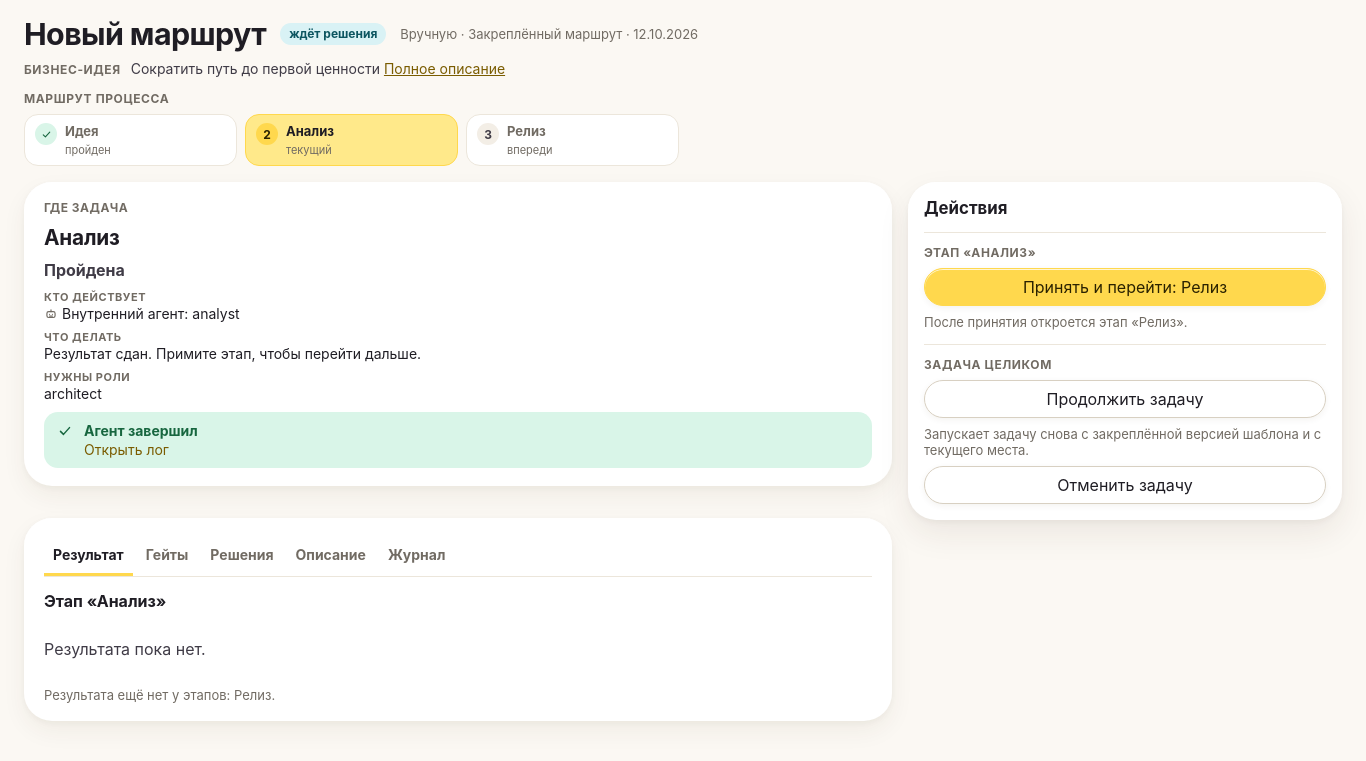
Test case: Task detail › shows the checker report and log link while exposing only confirm when that is allowed
Expected: the button "Принять и перейти: Релиз" is shown, [924,268,1326,306]
Click the tab "Журнал". click: coordinates (417, 556)
box: [379,536,454,576]
(page scrolled)
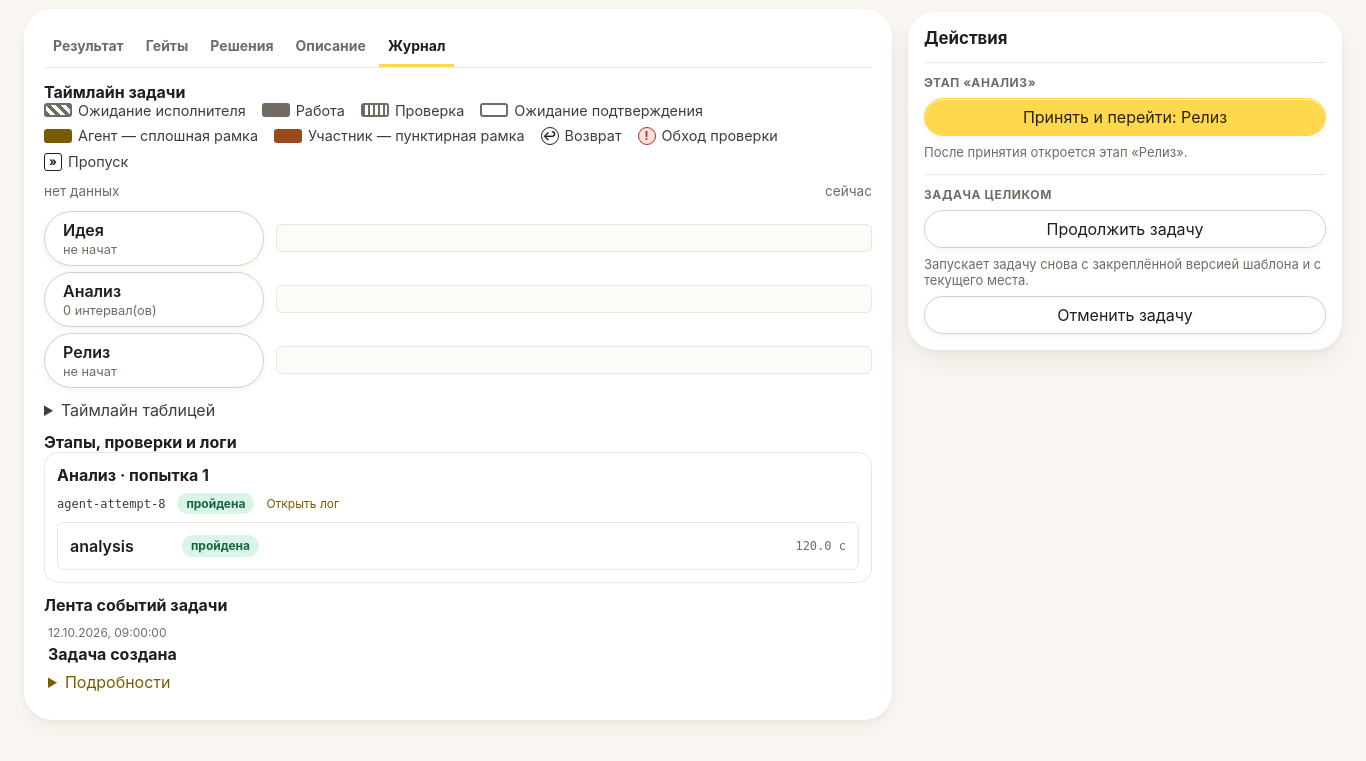
Click the button with aria-label "Этап analysis: показать детали". click: coordinates (102, 546)
box: [57,522,859,570]
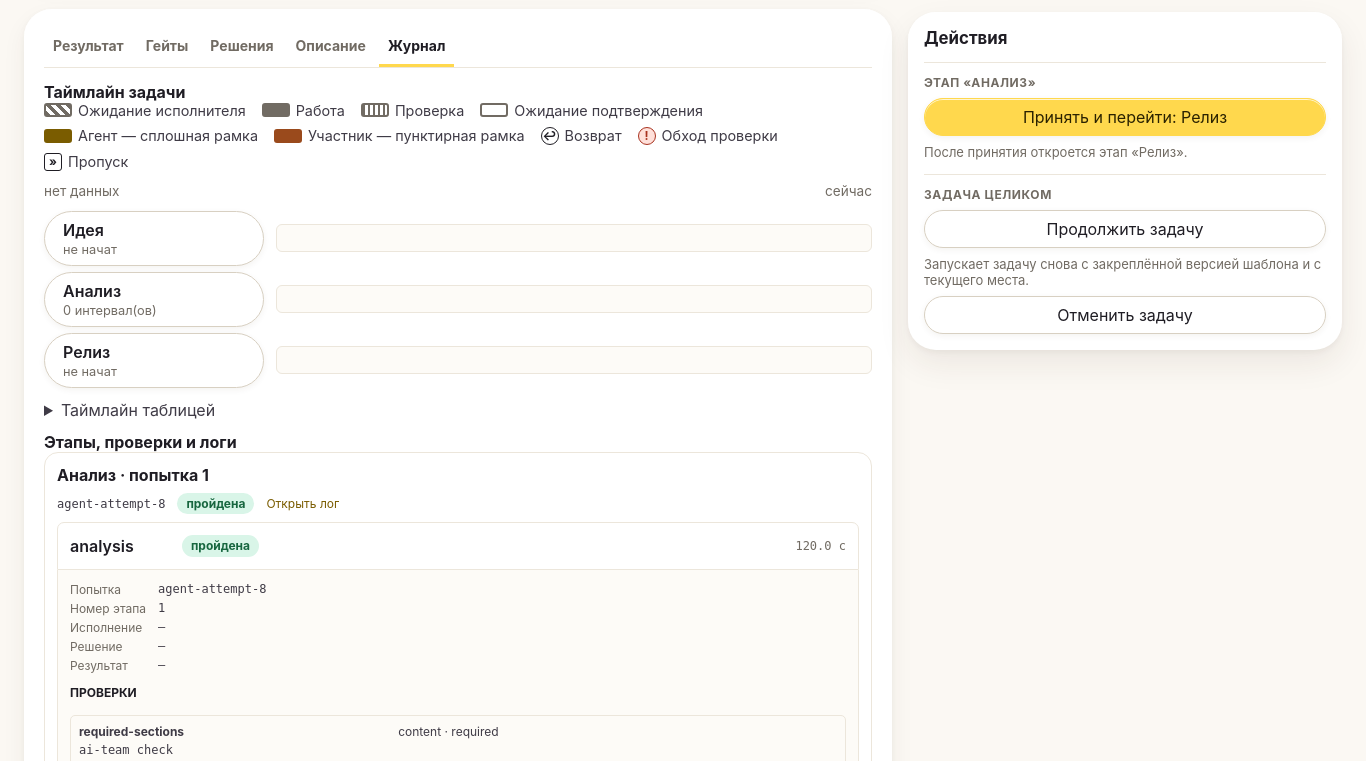
Expected: the heading "Проверки" is shown, [70,685,137,700]
Expected: the text "required-sections" is shown, [79,724,184,739]
